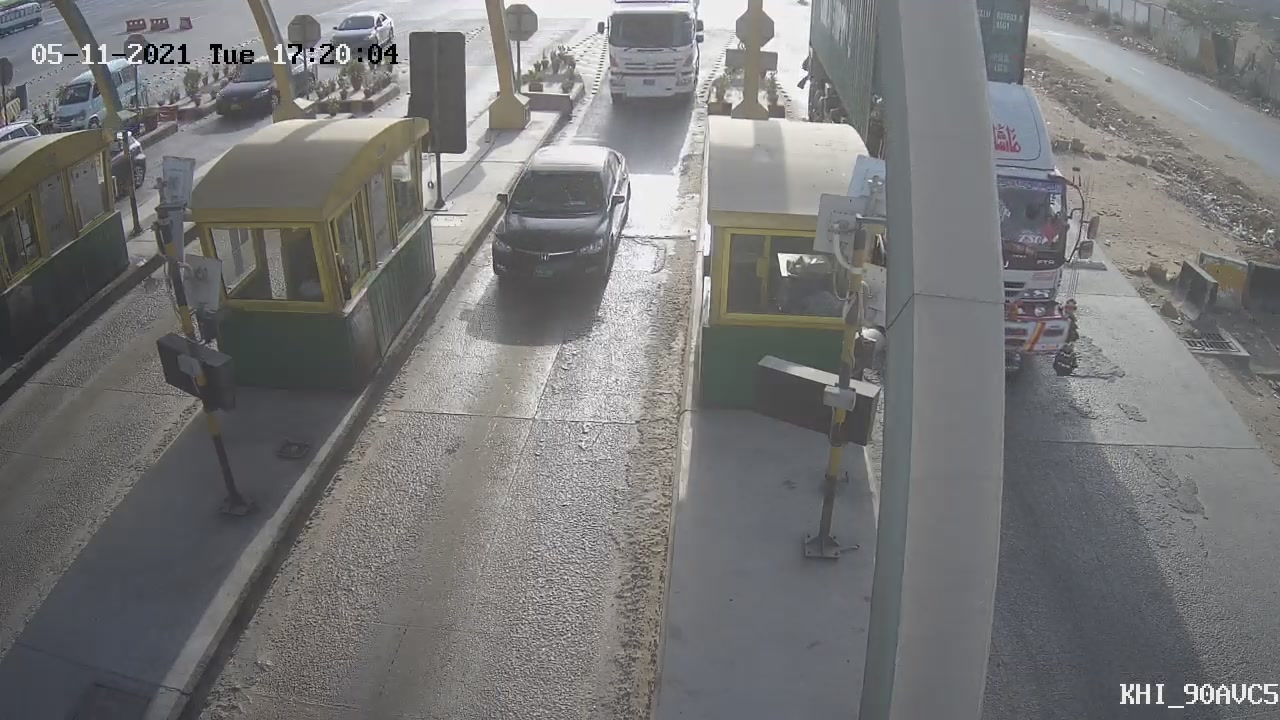F1: (469, 118, 652, 329)
